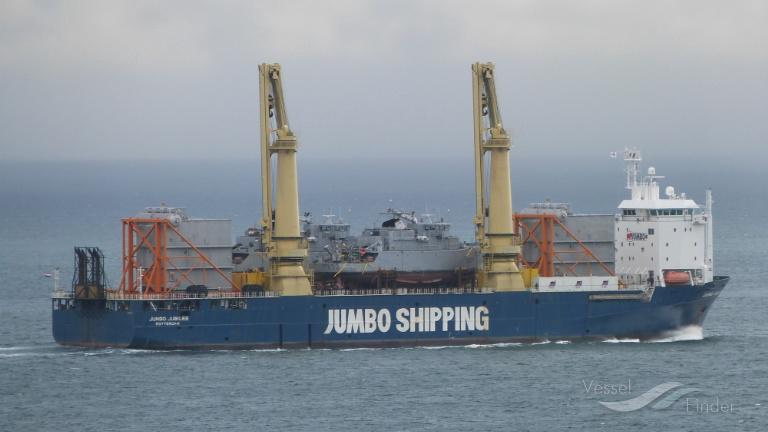OCR: (323, 307, 496, 337)
